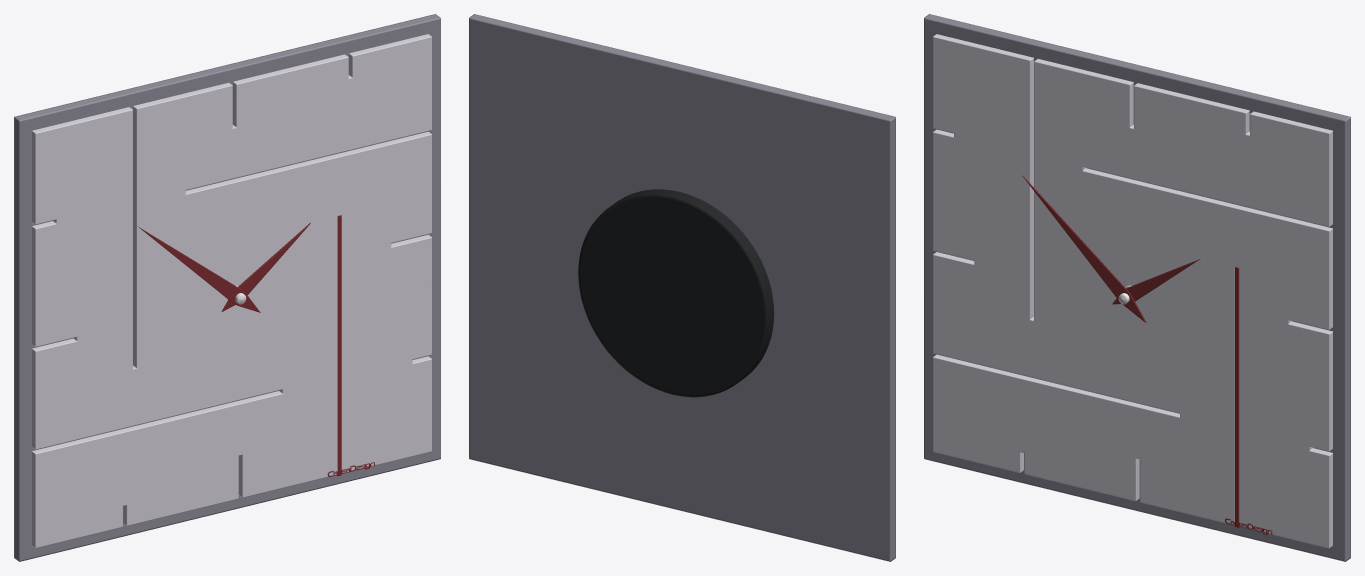
3 views of the same model, side by side, from view 1: azimuth 30°, elevation 25°; view 2: azimuth 150°, elevation 25°; view 3: azimuth 330°, elevation 25° (orthographic).
Visible parts, largest first — view 1: 7755; view 2: 7755; view 3: 7755.
Boxes of the visible parts, x1,y1,x2,y2 form: 7755: (14, 14, 440, 561); 7755: (469, 14, 895, 561); 7755: (924, 14, 1350, 561).
Size of the model in its own units: 0.33 by 0.33 by 0.034.
Materials: 1 (1 with a texture image).
